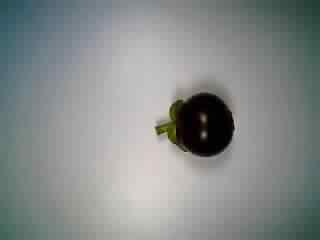mangosteen: (153, 82, 235, 167)
